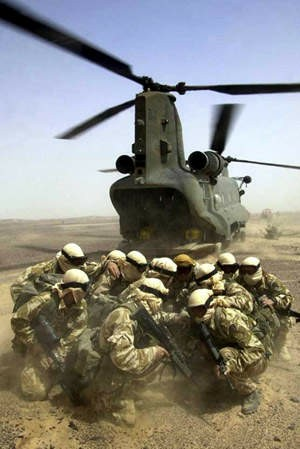chinook: (86, 80, 258, 224)
